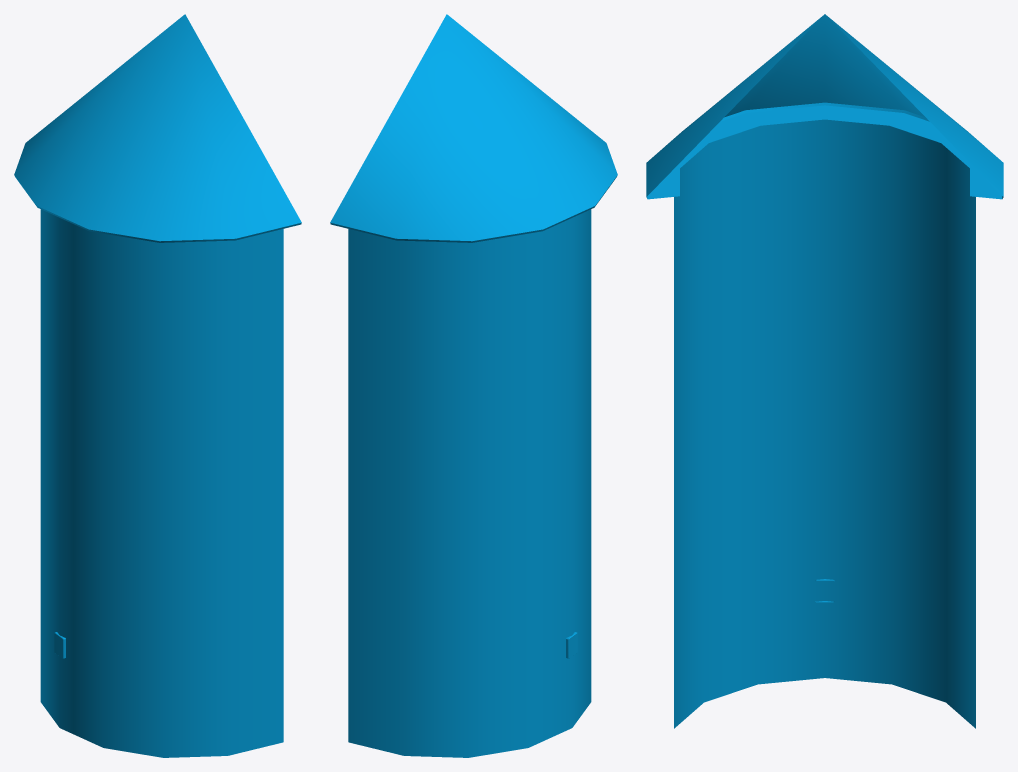
File: WaterSilo.fbx
The picture shows the model from 3 angles, left to right: view 1: azimuth 30°, elevation 25°; view 2: azimuth 150°, elevation 25°; view 3: azimuth 270°, elevation 25°; orthographic projection. The views are drawn at different scales.
Parts seen in each view (by area): view 1: WaterSilo; view 2: WaterSilo; view 3: WaterSilo.
Boxes of the visible parts, x1,y1,x2,y2 form: WaterSilo: (14, 14, 301, 757); WaterSilo: (330, 14, 617, 757); WaterSilo: (646, 14, 1003, 728).
Bounding box in the file's own units: 3.62 × 13 × 5.77.
